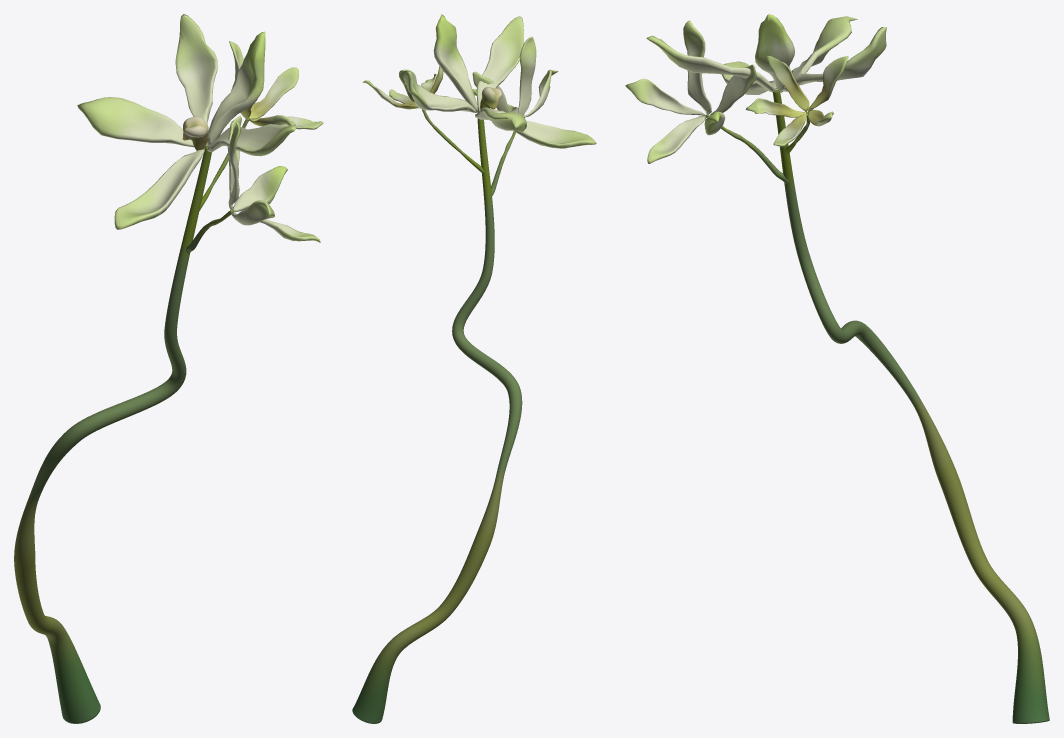
3 renders of one model, left to right at view 1: azimuth 30°, elevation 25°; view 2: azimuth 150°, elevation 25°; view 3: azimuth 270°, elevation 25°, orthographic. The views are drawn at different scales.
Parts seen in each view (by area): view 1: LOD 0_8817940389063460455_bb9398364d468ec489d5e3c54dd32286; view 2: LOD 0_8817940389063460455_bb9398364d468ec489d5e3c54dd32286; view 3: LOD 0_8817940389063460455_bb9398364d468ec489d5e3c54dd32286.
Part boxes in pixels (bbox=[...]): LOD 0_8817940389063460455_bb9398364d468ec489d5e3c54dd32286: bbox=[14, 14, 323, 723]; LOD 0_8817940389063460455_bb9398364d468ec489d5e3c54dd32286: bbox=[352, 14, 596, 723]; LOD 0_8817940389063460455_bb9398364d468ec489d5e3c54dd32286: bbox=[625, 14, 1049, 723].
Bounding box in the file's own units: 4.97 × 15.48 × 8.12.
